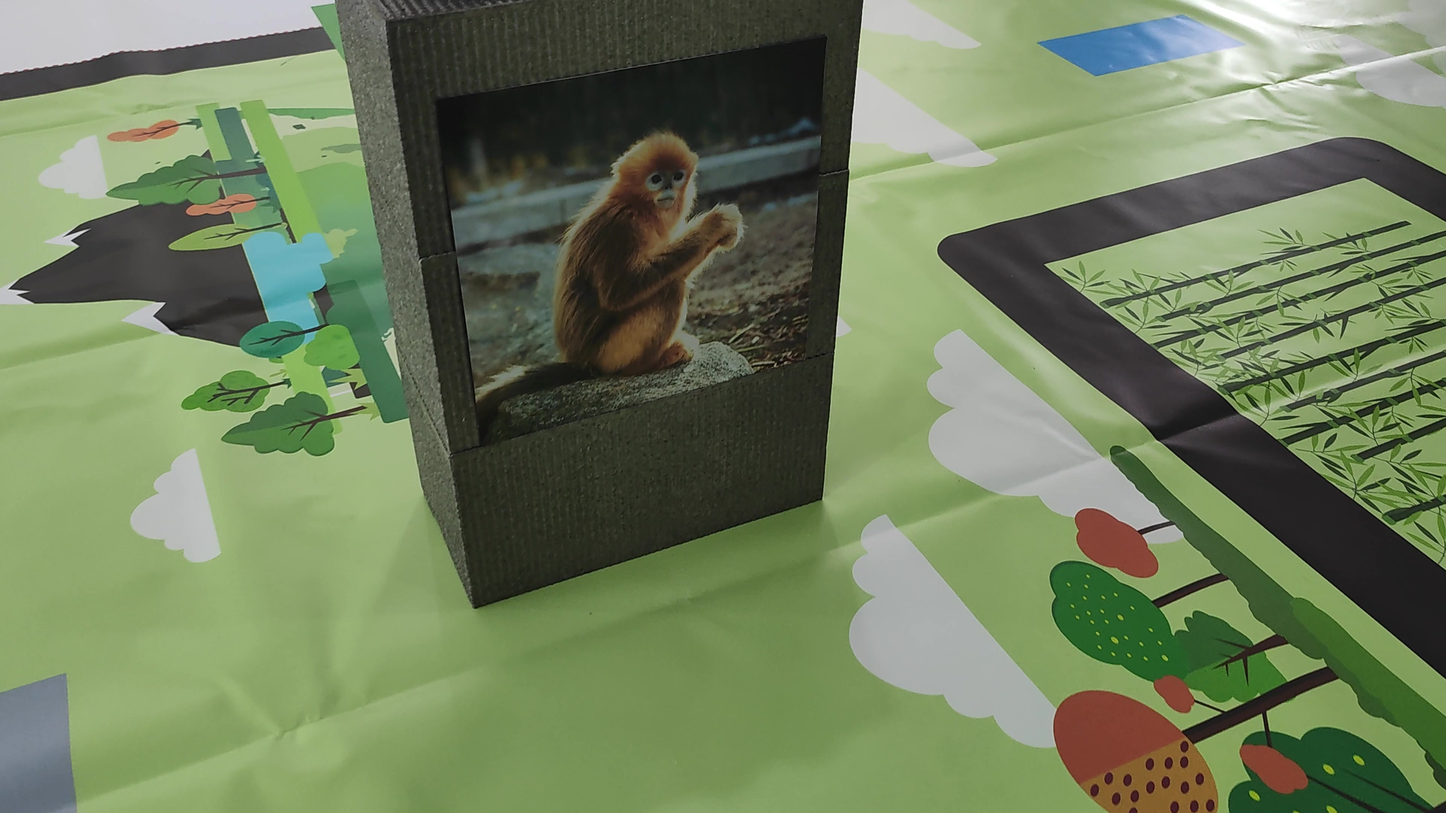monkey: (461, 130, 757, 424)
